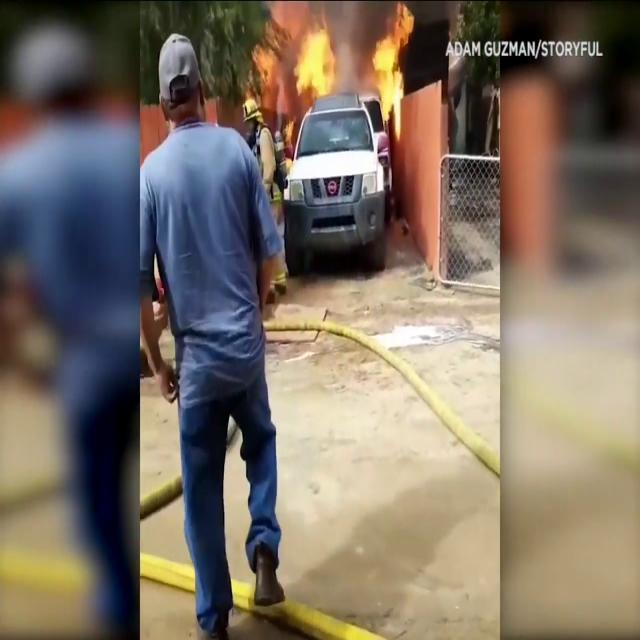Fire: (245, 9, 338, 136), (370, 2, 418, 136)
